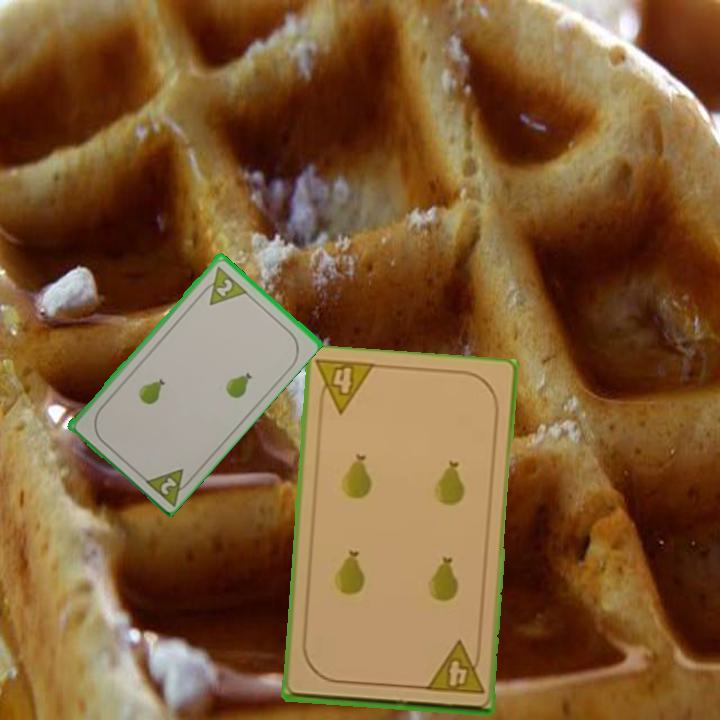2p: (140, 464, 197, 508), (196, 262, 249, 308)
4p: (312, 356, 378, 418), (421, 639, 487, 697)
